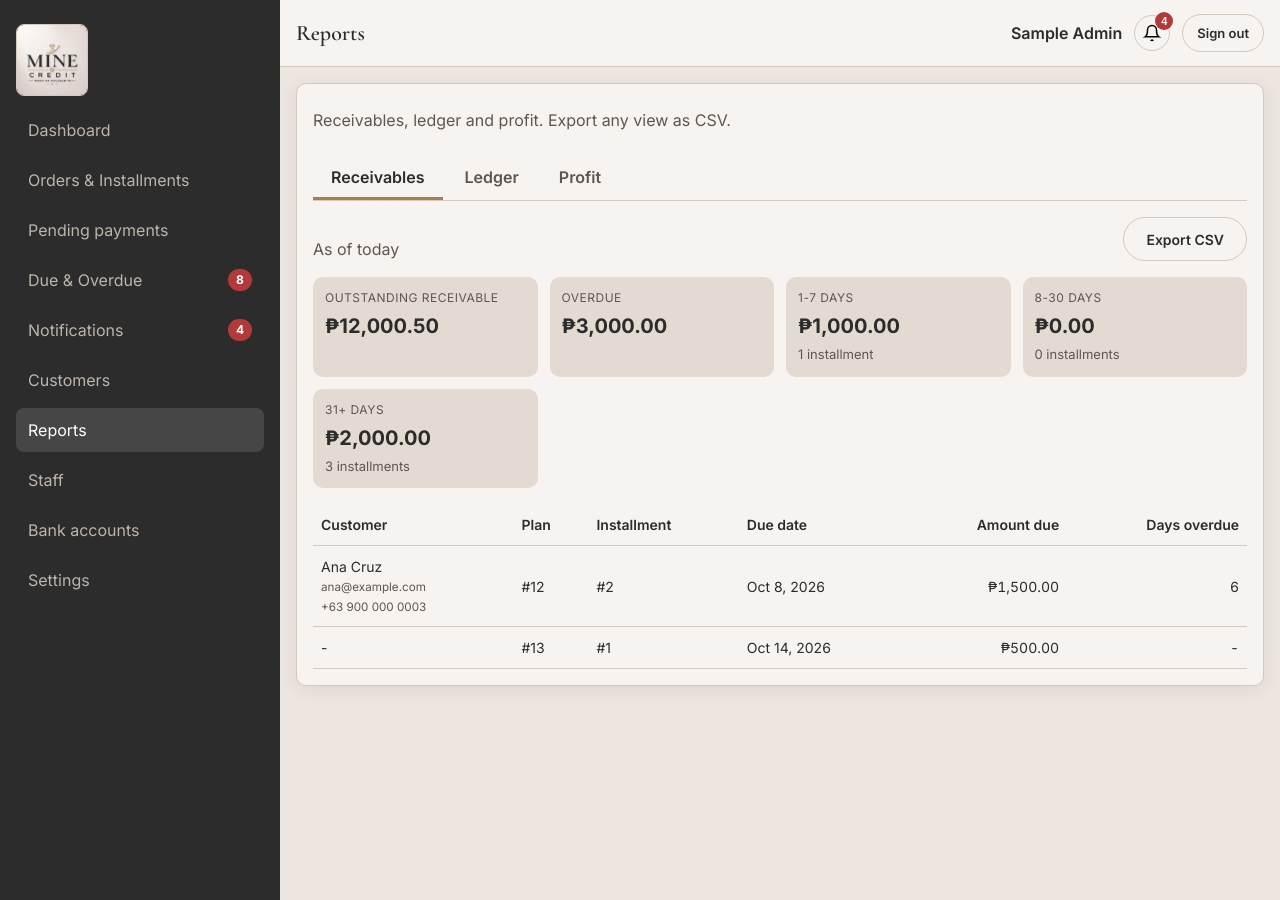
admin reports page as admin › shows the server error text when the export fails with 400
Expected: the text "Ana Cruz" is shown, [321,558,382,575]
Click the button "Export CSV": (1185, 239) [1123,217,1247,261]
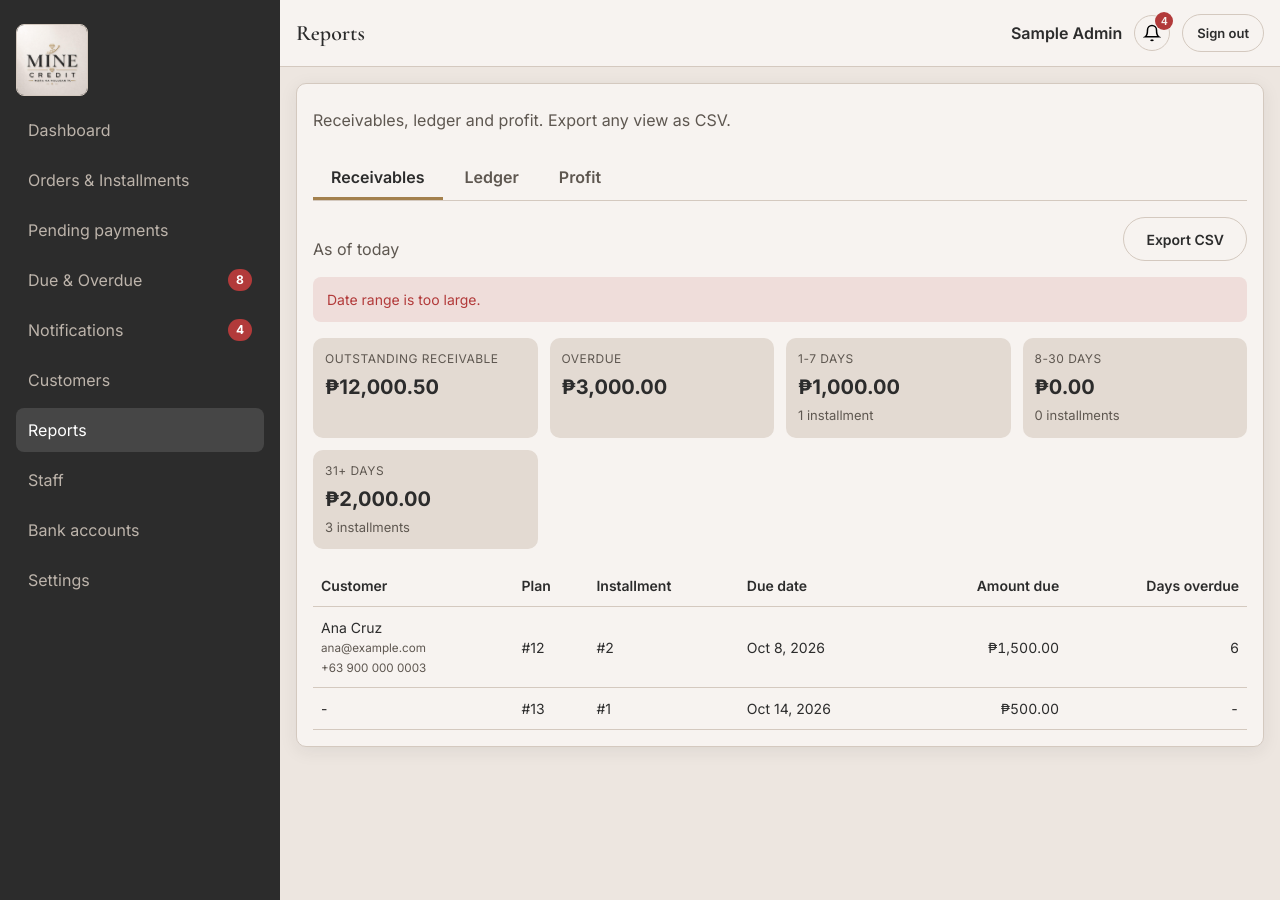
Expected: the text "Date range is too large." is shown, [313,277,1247,322]
